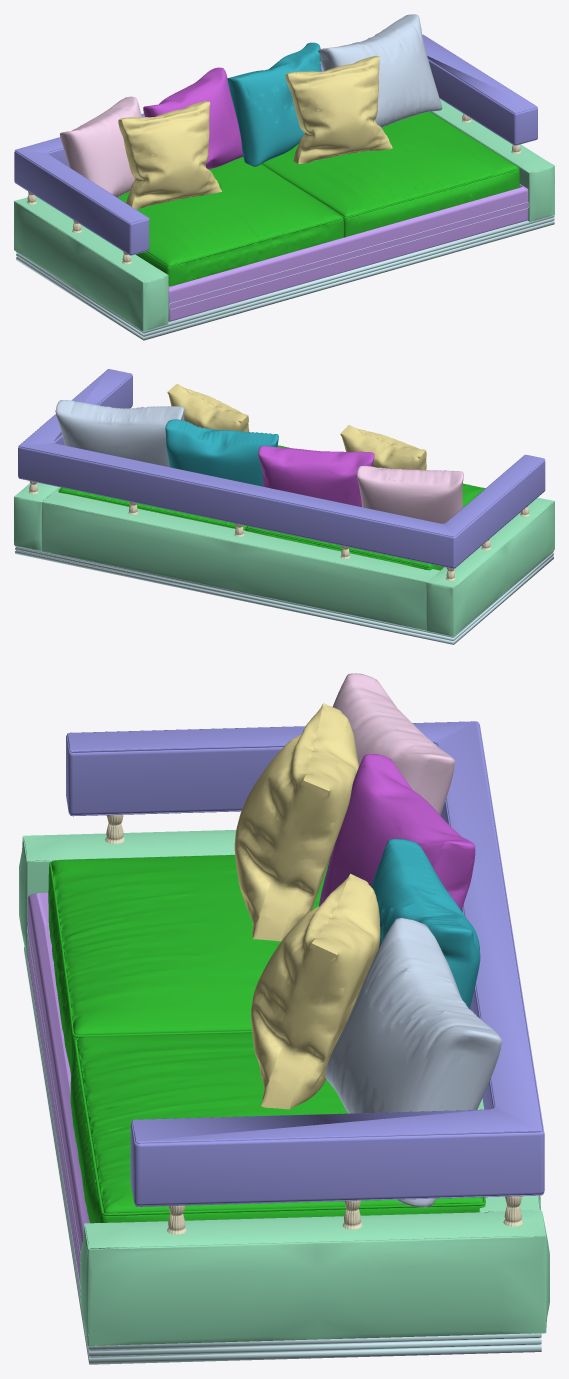
File: obj_ldorado_sofa_cdff44.glb
The picture shows the model from 3 angles, top to bottom: view 1: azimuth 30°, elevation 25°; view 2: azimuth 150°, elevation 25°; view 3: azimuth 270°, elevation 25°; orthographic projection. The views are drawn at different scales.
Parts seen in each view (by area): view 1: obj_ldorado_sofa_cdff44; view 2: obj_ldorado_sofa_cdff44; view 3: obj_ldorado_sofa_cdff44.
Boxes of the visible parts, x1,y1,x2,y2 form: obj_ldorado_sofa_cdff44: (14, 14, 554, 340); obj_ldorado_sofa_cdff44: (14, 369, 554, 644); obj_ldorado_sofa_cdff44: (19, 673, 549, 1364).
Size of the model in its own units: 2 by 0.6682 by 1.05.
